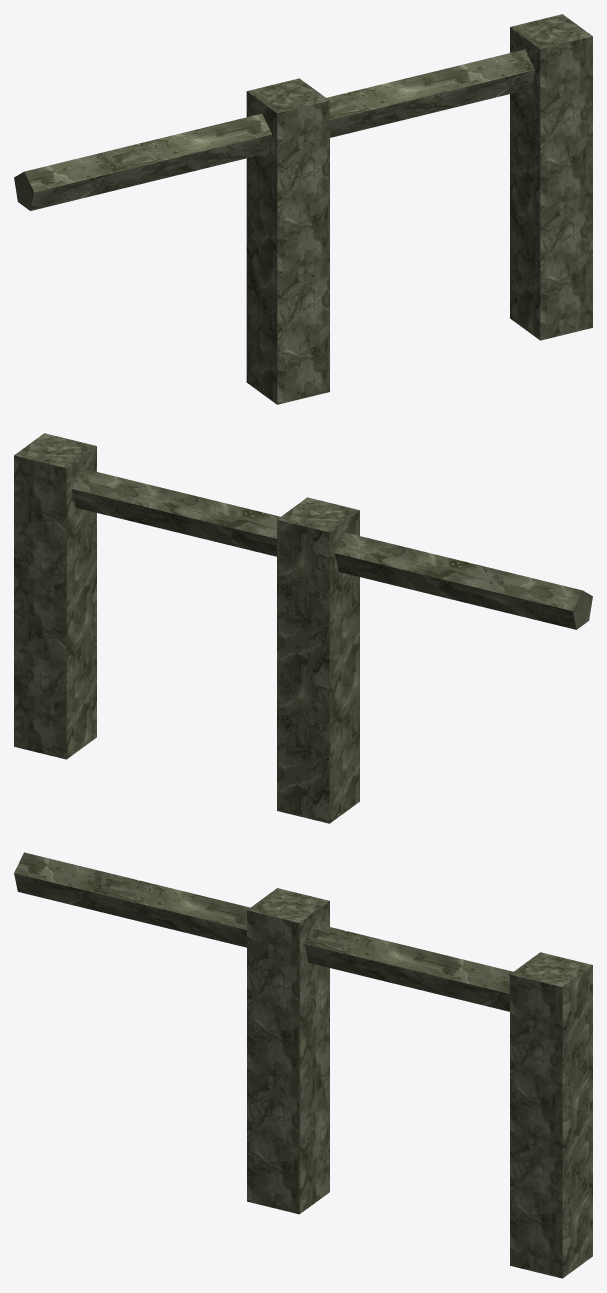
File: Fence_metal4.glb
3 views of the same model, one above another, from view 1: azimuth 30°, elevation 25°; view 2: azimuth 150°, elevation 25°; view 3: azimuth 330°, elevation 25° (orthographic).
Visible parts, largest first — view 1: Cube; view 2: Cube; view 3: Cube.
Boxes of the visible parts, x1,y1,x2,y2 form: Cube: [14, 14, 592, 404]; Cube: [14, 433, 592, 823]; Cube: [14, 852, 592, 1278].
Size of what is drawn, in the model's own units: 2.1 by 1.06 by 0.2.
1 material, 1 textured.
